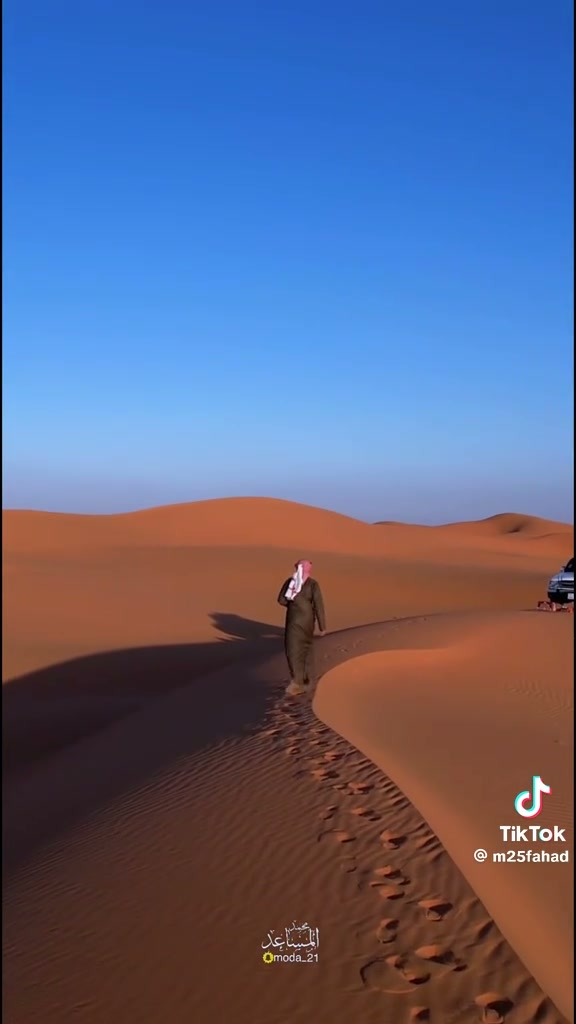human_footprint: (278, 559, 325, 695), (360, 954, 431, 994), (415, 944, 466, 970), (474, 992, 513, 1023), (418, 898, 452, 921), (372, 865, 409, 885), (370, 880, 404, 900), (377, 918, 399, 943), (380, 830, 406, 850), (318, 829, 355, 843), (350, 806, 379, 821), (310, 766, 337, 780), (319, 804, 339, 821), (408, 1006, 430, 1021)
